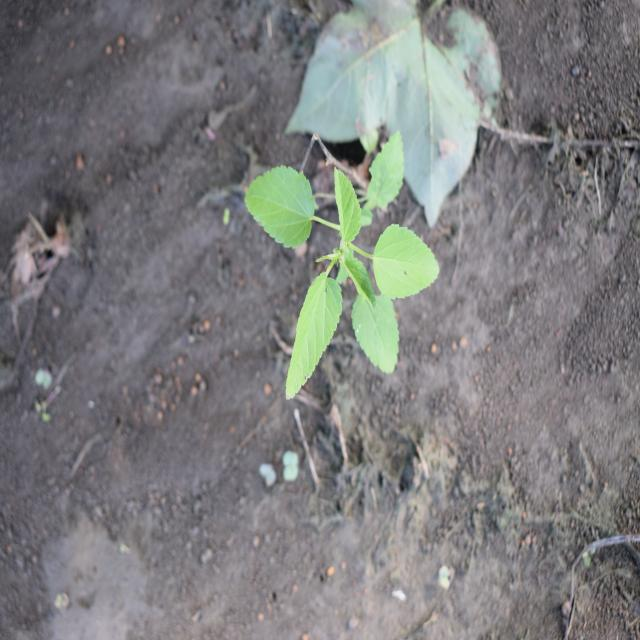PricklySida: (242, 129, 442, 404)
